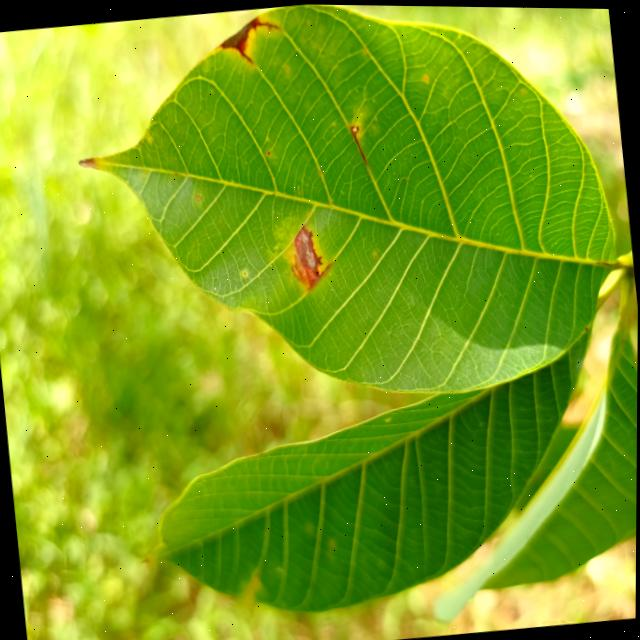Corynespora: (350, 122, 368, 165), (257, 17, 280, 32), (242, 51, 253, 64)
